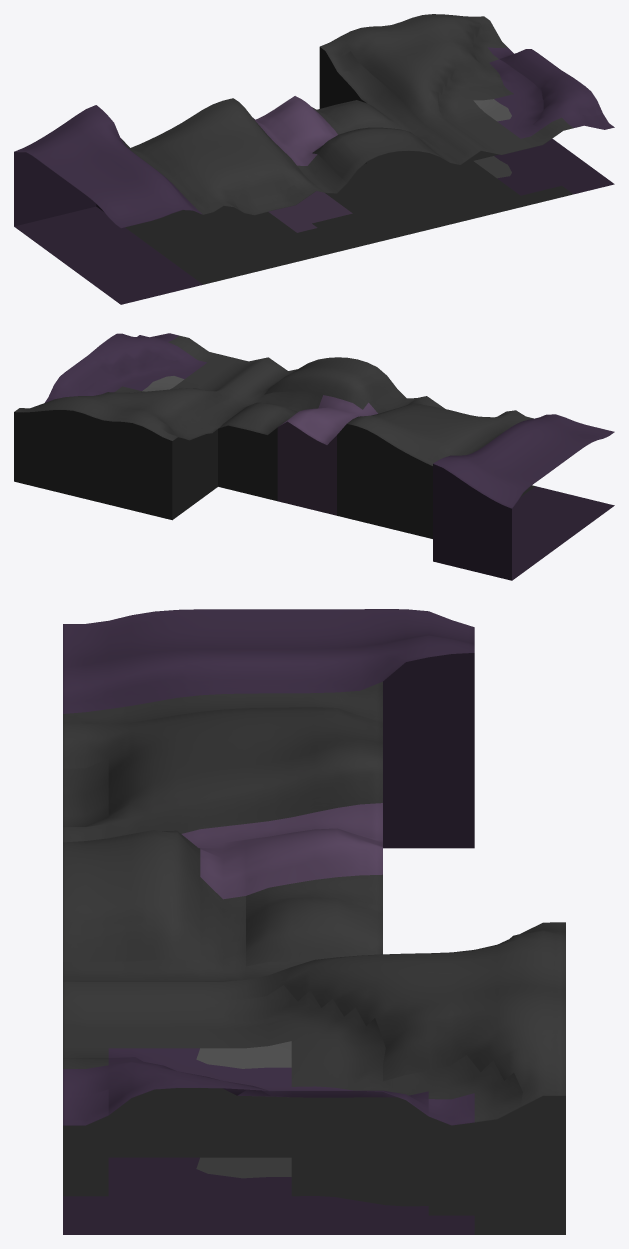
File: delbld-hull-566.glb
3 renders of one model, top to bottom at view 1: azimuth 30°, elevation 25°; view 2: azimuth 150°, elevation 25°; view 3: azimuth 270°, elevation 25°, orthographic. The views are drawn at different scales.
Parts seen in each view (by area): view 1: delbld-hull-566; view 2: delbld-hull-566; view 3: delbld-hull-566.
Boxes of the visible parts, box(x1,y1,x2,y2) form: delbld-hull-566: box(14, 14, 614, 304); delbld-hull-566: box(14, 333, 614, 580); delbld-hull-566: box(63, 609, 565, 1234).
Size of the model in its own units: 2 by 0.3933 by 0.9167.
Materials: 4 (4 with a texture image).
